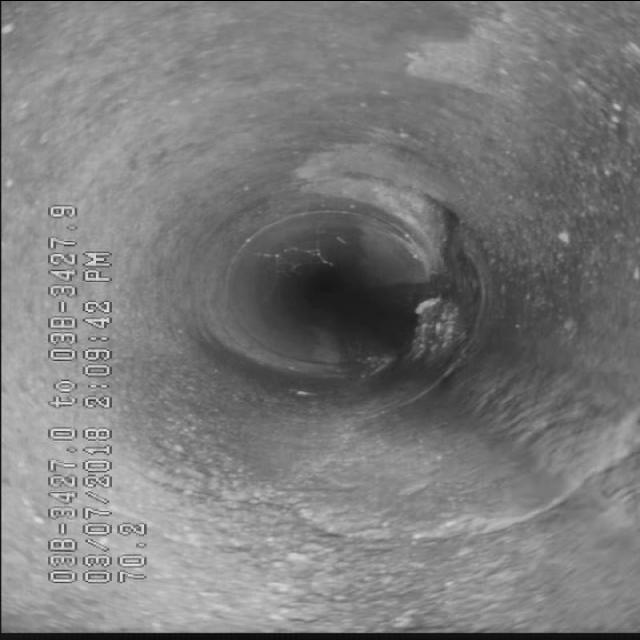Fracture: (233, 459, 612, 549)
